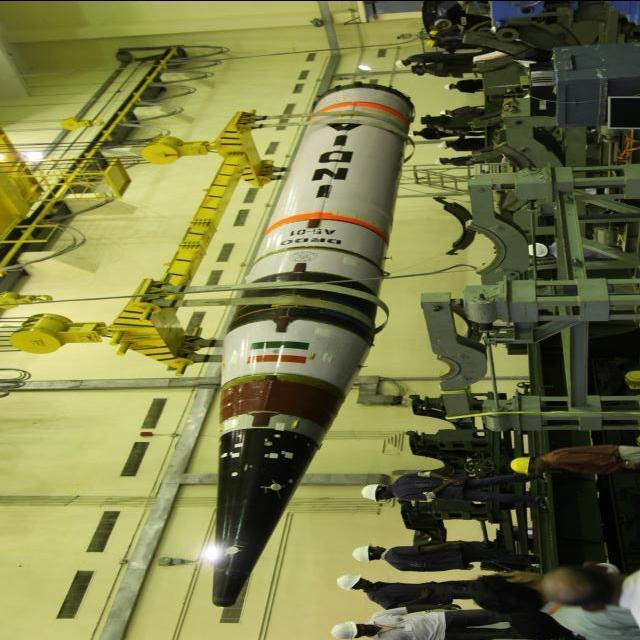missile: (197, 71, 428, 613)
